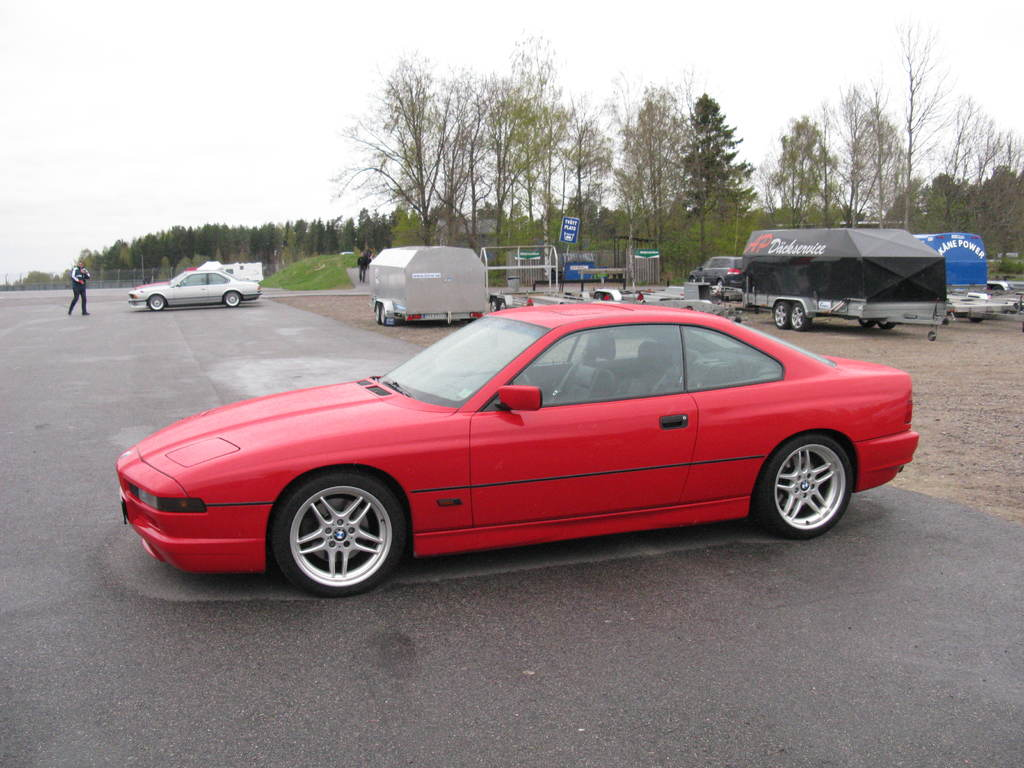Car: (94, 296, 929, 590), (126, 261, 261, 313), (686, 252, 744, 287), (134, 266, 218, 284)
